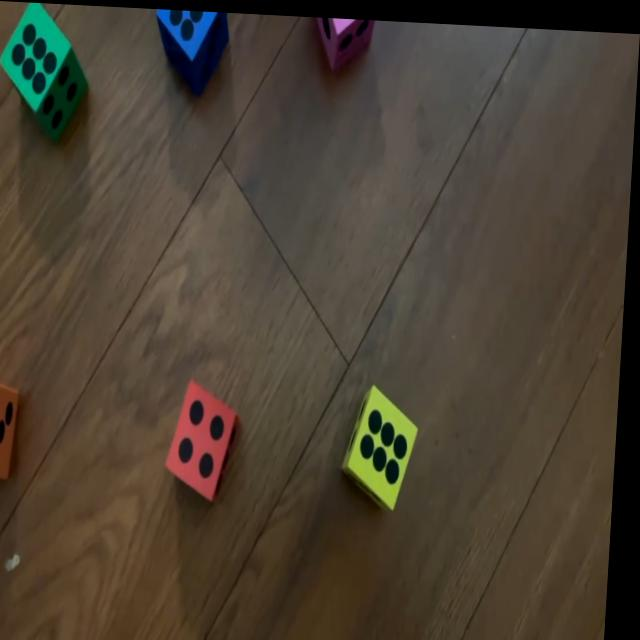cube: (0, 0, 94, 140), (169, 378, 245, 497), (154, 6, 232, 89)
